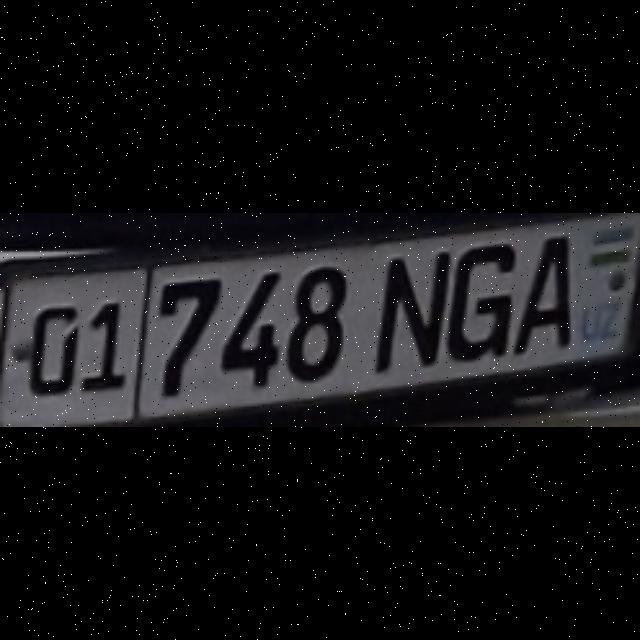0: (26, 303, 78, 393)
1: (80, 301, 124, 391)
4: (217, 270, 276, 386)
7: (154, 278, 220, 394)
8: (281, 264, 343, 378)
A: (512, 234, 570, 352)
G: (444, 242, 514, 361)
N: (372, 250, 448, 370)
